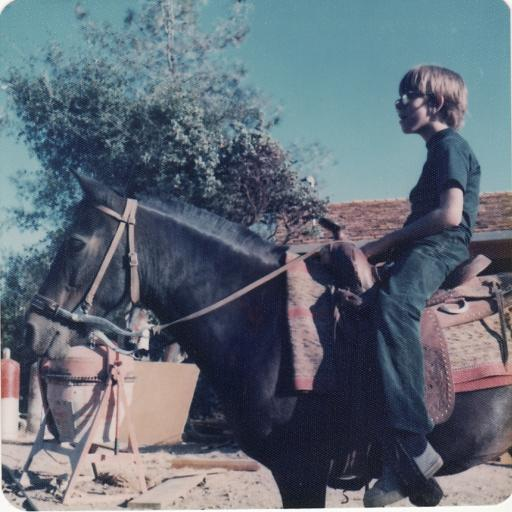horse: (20, 160, 512, 509)
